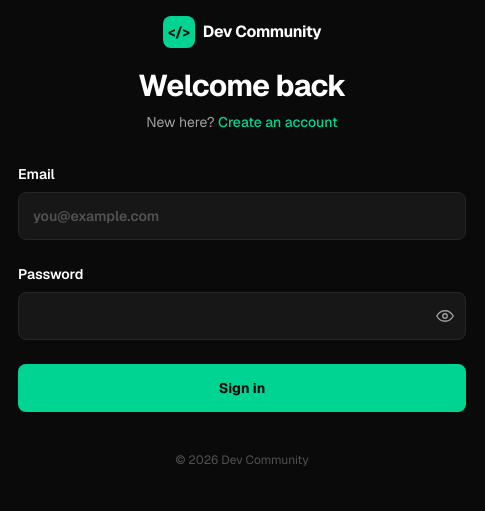
Scenario: LoginForm › shows the email format error and does not submit
Type "not-an-email" into the field labelled "Email".
click(242, 216); type("not-an-email")  # box [18, 192, 466, 240]
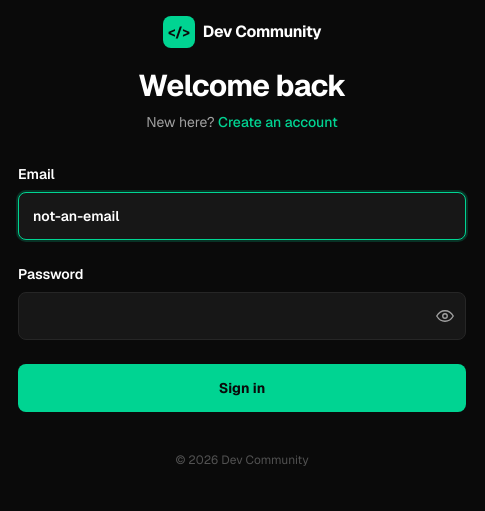
Type "secret" into the password field labelled "Password".
click(242, 316); type("secret")  # box [18, 292, 466, 340]
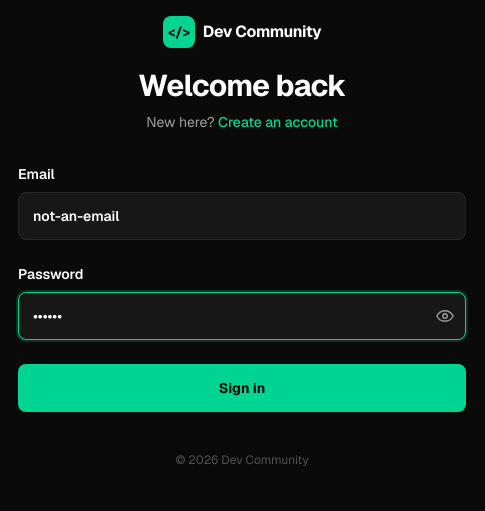
Click the button "Sign in".
click(242, 388)  # box [18, 364, 466, 412]
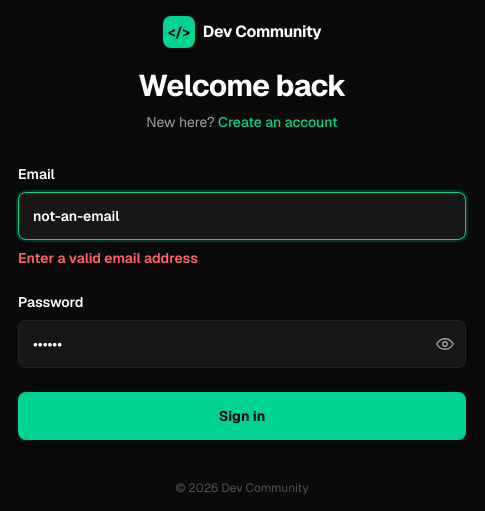
Result: the text "Enter a valid email address" is shown at [18, 249, 198, 267]
